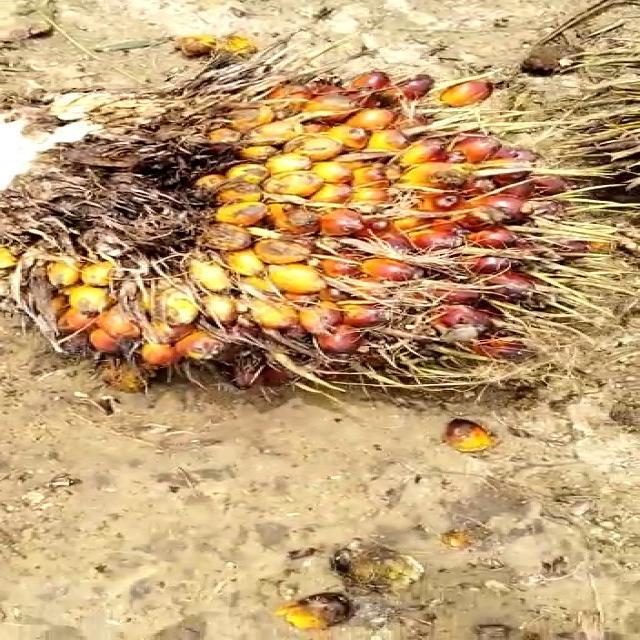palm oil: (0, 51, 636, 446)
